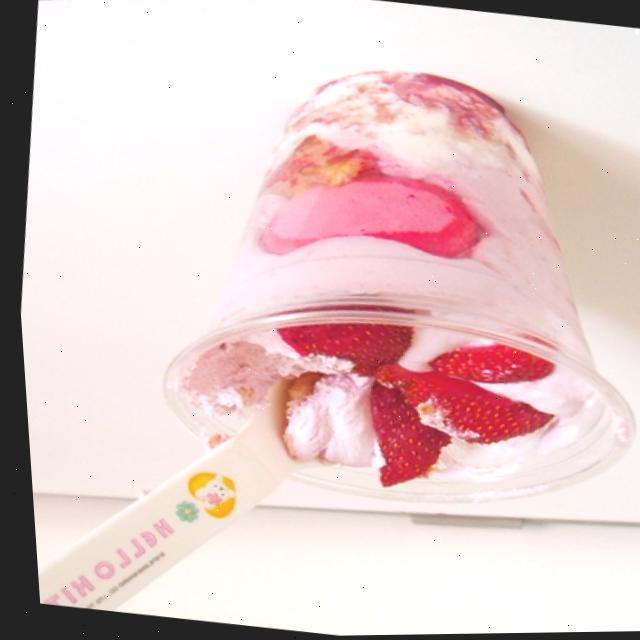蛋糕甜品: (114, 43, 640, 541)
